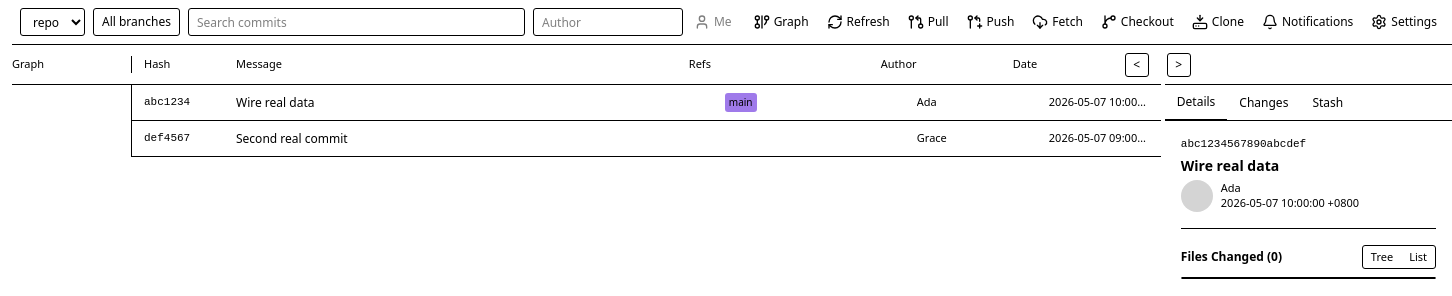
Test: App › switches to details when selecting a commit from the Stash tab
The width and height of the screenshot is (1452, 296).
Click the tab "Stash": (1328, 102) 1300,85 -> 1355,120
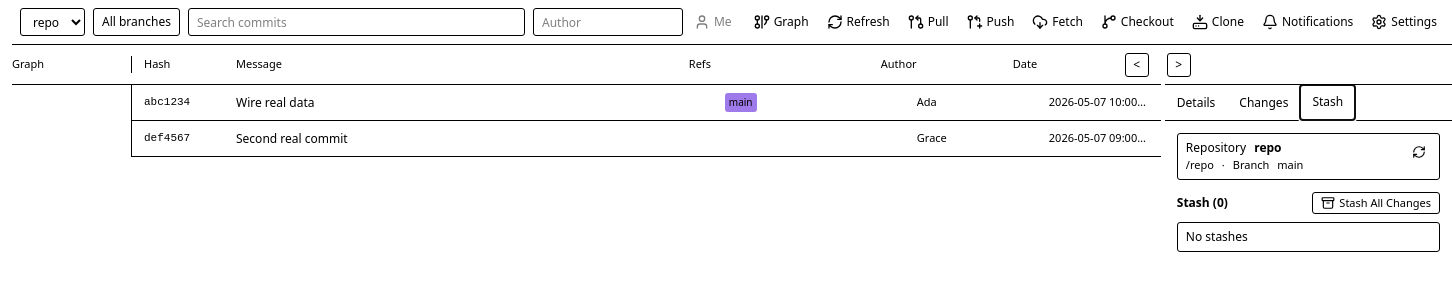
Click the element with test id "commit-row" that starts with "def4567": (646, 139) 132,121 -> 1161,157
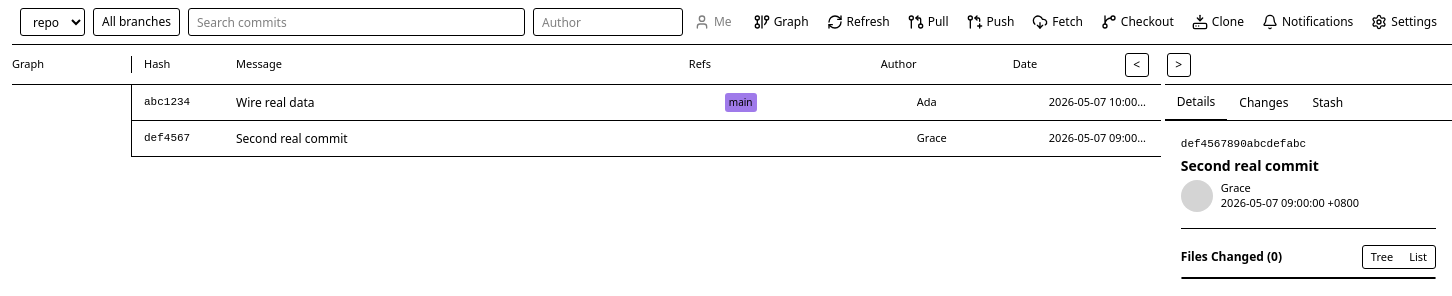
Check: the heading "Second real commit" is shown, box 1181,156 -> 1319,175
